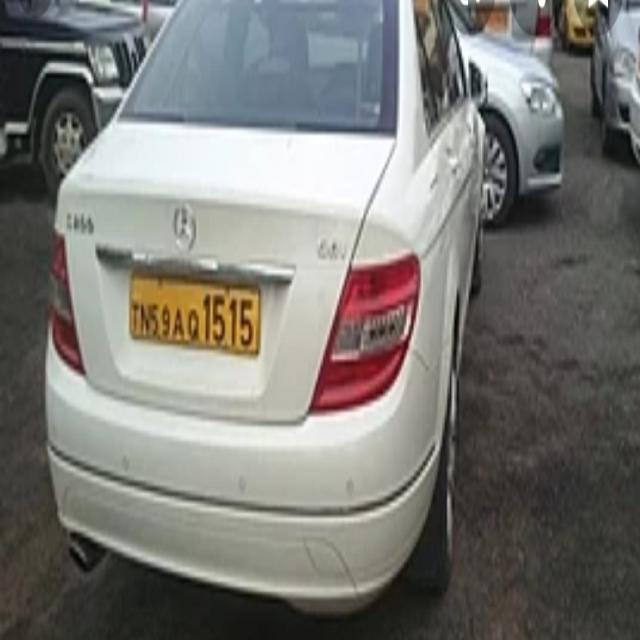Number-Plate: (132, 282, 262, 358)
